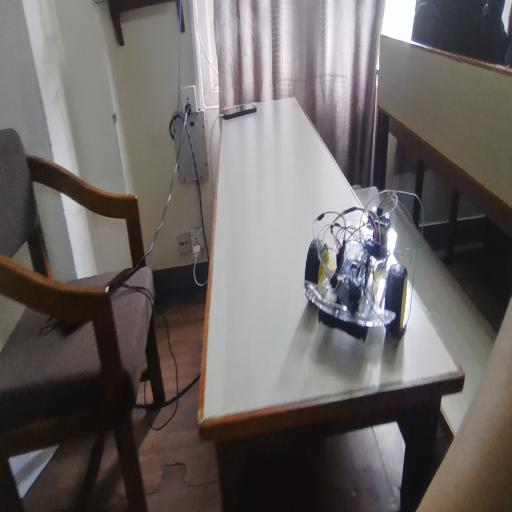car: (312, 173, 421, 357)
